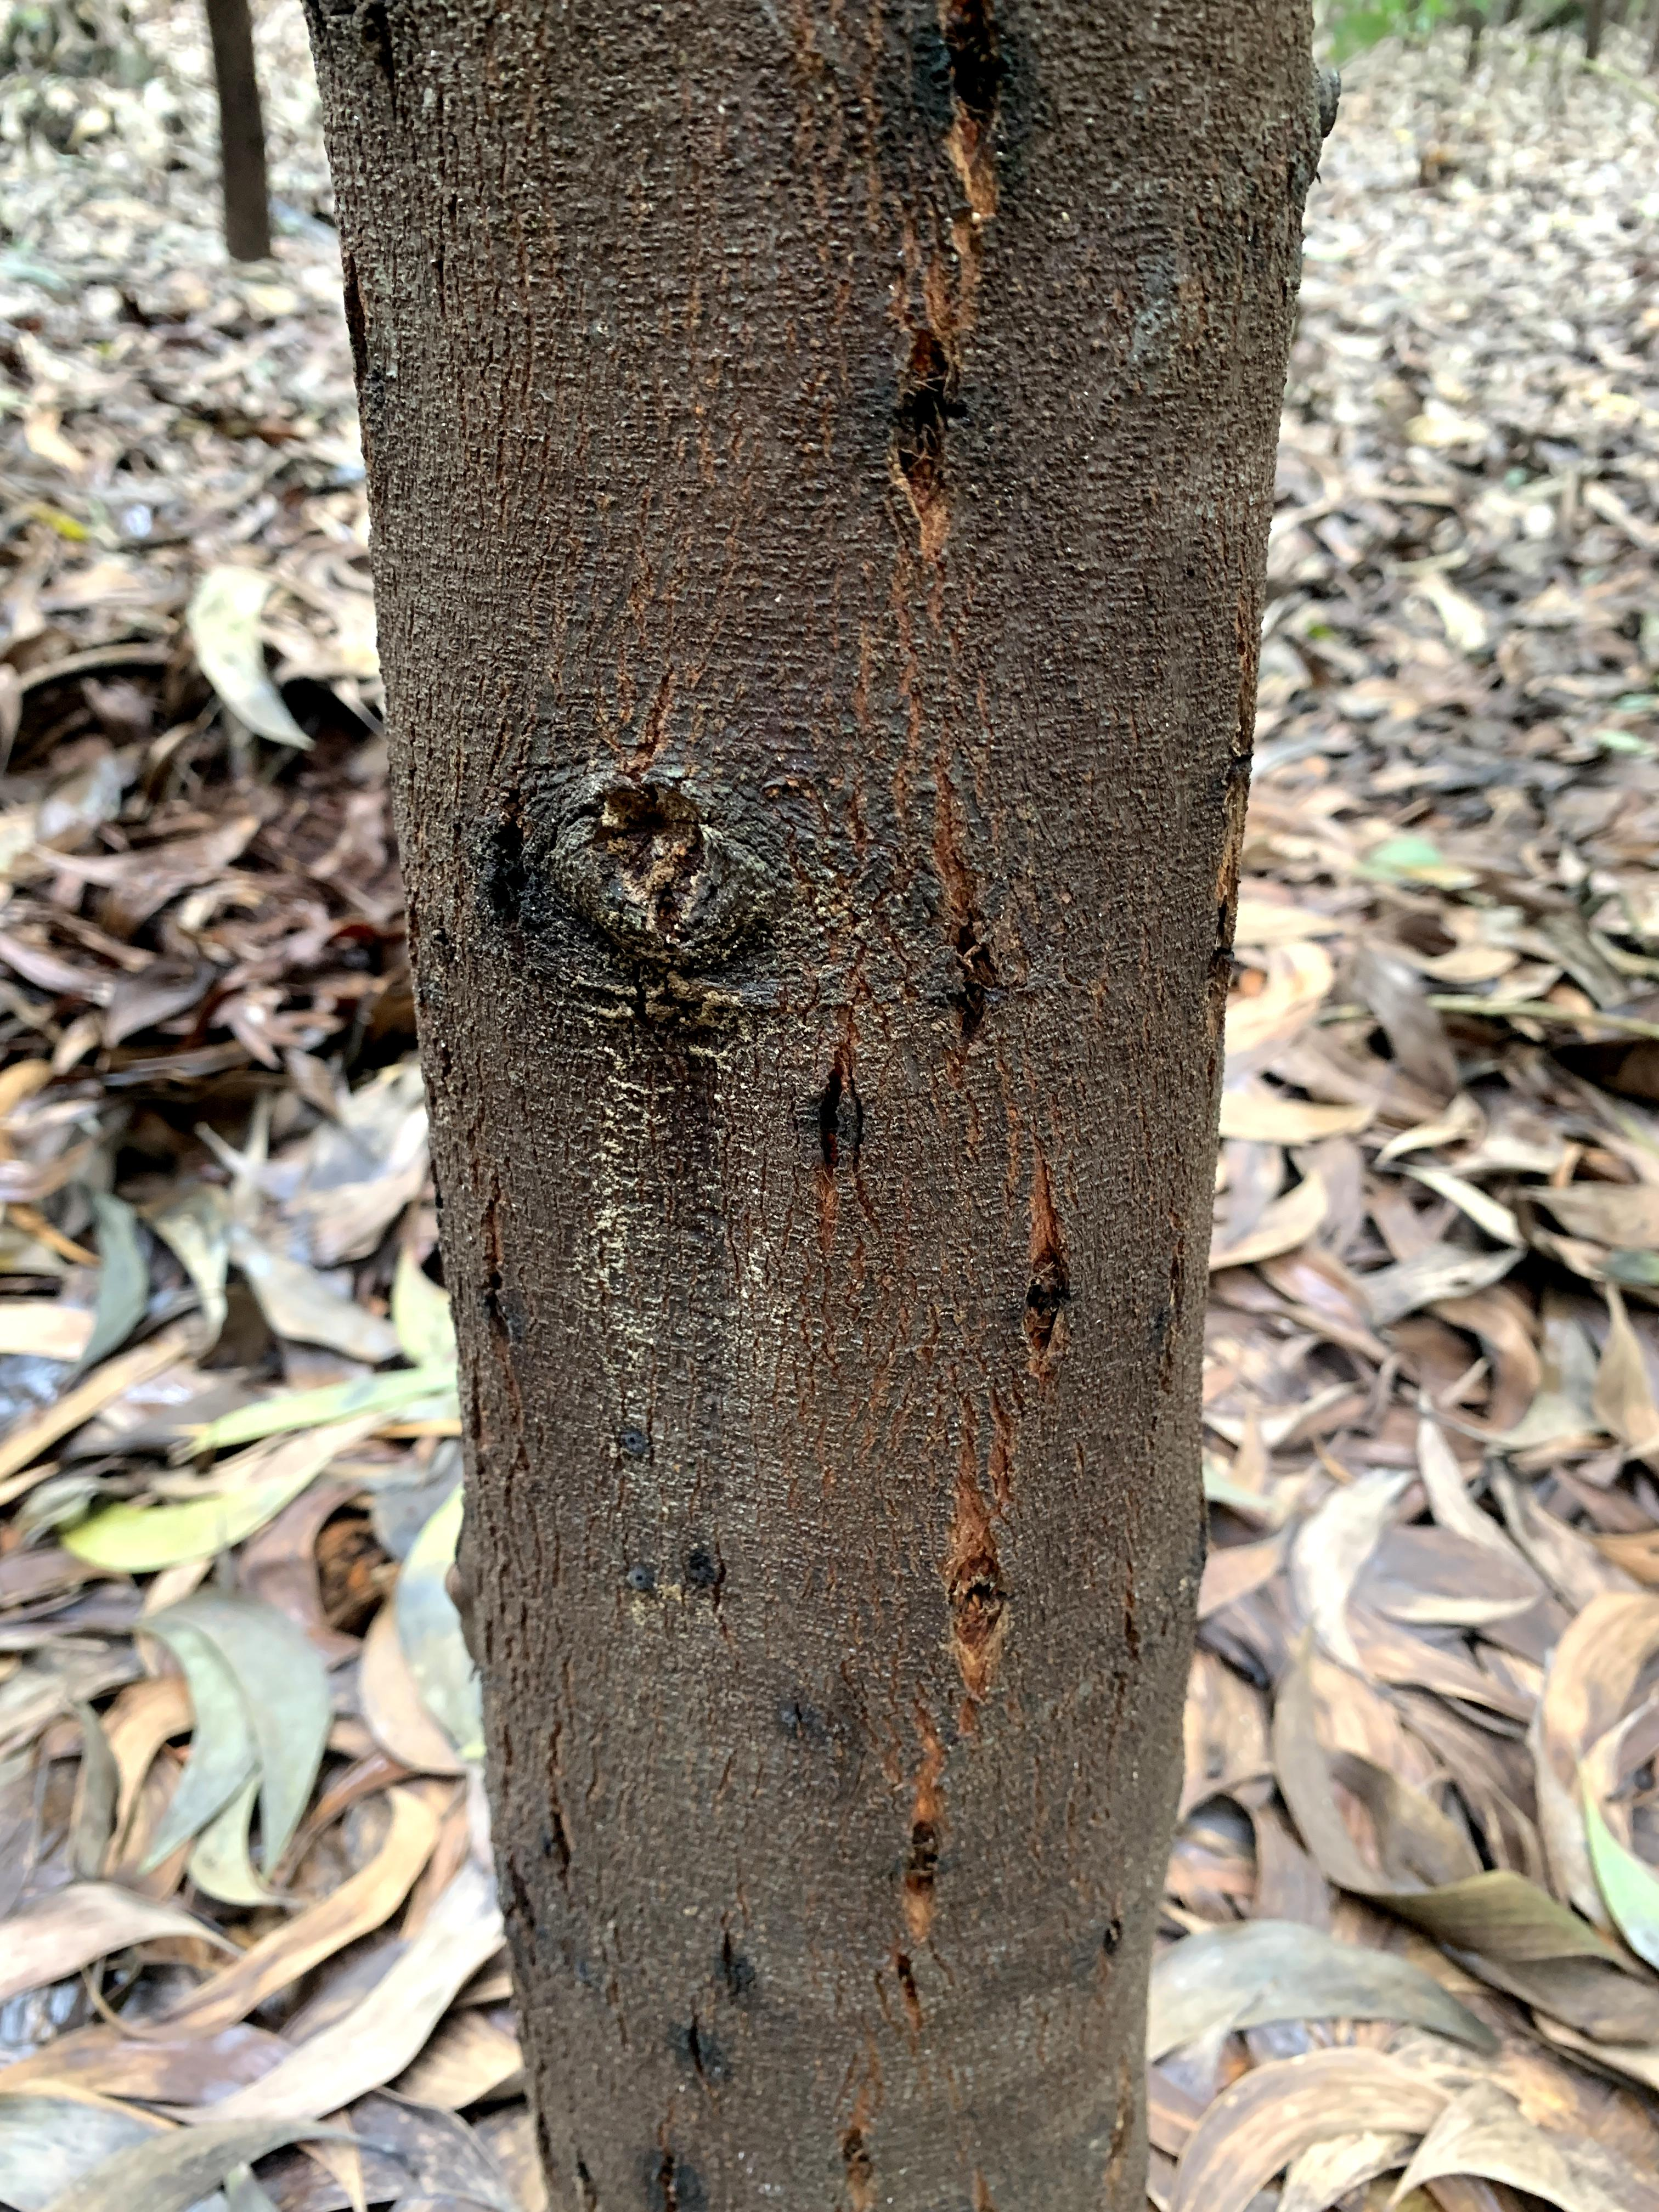Stem Borer: (906, 860, 1051, 1082), (861, 317, 978, 575), (945, 0, 1049, 237), (462, 773, 565, 972), (788, 1052, 892, 1240), (336, 225, 415, 415), (1006, 1231, 1098, 1385), (1175, 819, 1243, 1022), (950, 1517, 1014, 1686), (680, 1484, 742, 1649), (699, 1918, 786, 2022), (343, 7, 430, 108), (465, 1238, 528, 1369), (641, 2130, 725, 2212), (887, 1937, 939, 2064), (1150, 1211, 1204, 1327), (538, 1787, 587, 1893), (833, 2113, 880, 2212), (504, 1862, 554, 1954), (901, 1808, 950, 1890), (671, 2005, 721, 2083), (1114, 1564, 1147, 1670), (1094, 1900, 1134, 1987), (528, 2090, 563, 2189), (572, 2139, 613, 2212)
